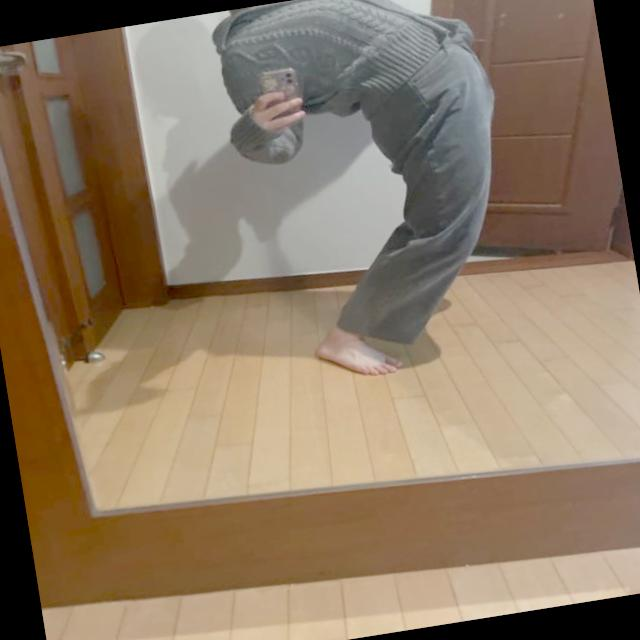cardigan: (198, 0, 480, 170)
denimpants: (293, 33, 530, 356)
